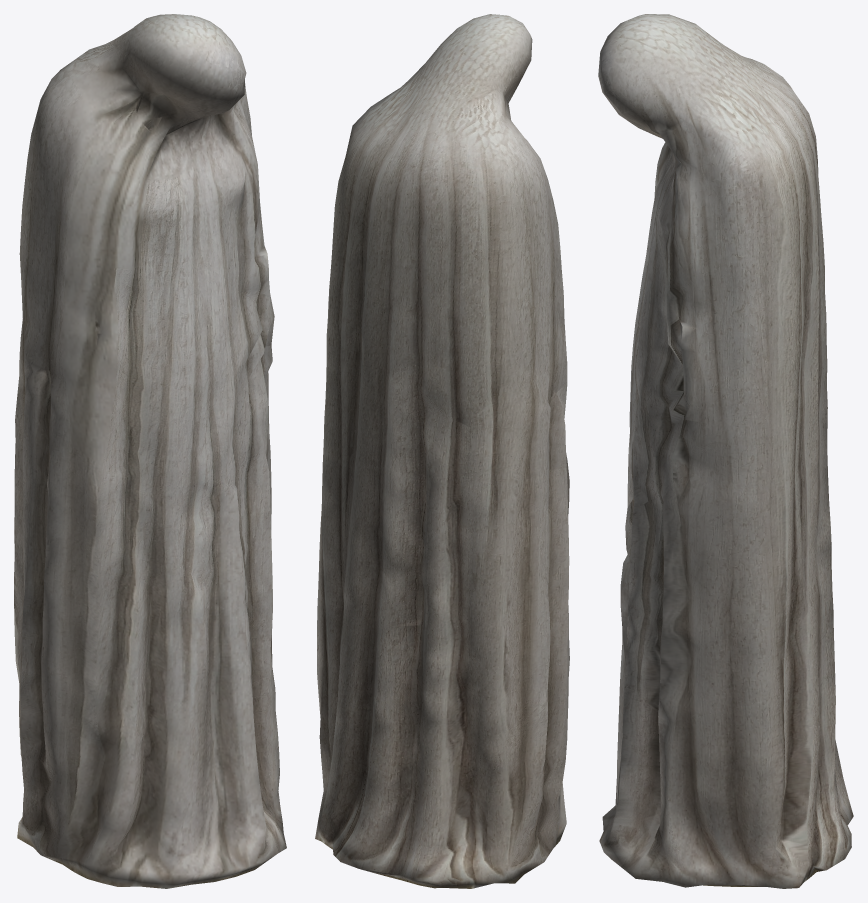
File: FullFigure_turned_v1.glb
3 renders of one model, left to right at view 1: azimuth 30°, elevation 25°; view 2: azimuth 150°, elevation 25°; view 3: azimuth 270°, elevation 25°, orthographic. The views are drawn at different scales.
Parts seen in each view (by area): view 1: texture_mapping; view 2: texture_mapping; view 3: texture_mapping.
Part boxes in pixels (x1,y1,x2,y2): texture_mapping: (14,14,286,888); texture_mapping: (315,14,569,888); texture_mapping: (598,14,853,888).
Bounding box in the file's own units: 0.2964 × 1 × 0.2835.
1 material, 1 textured.
